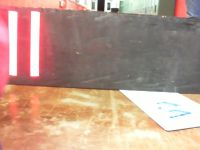switch: (7, 10, 18, 76), (30, 11, 39, 77)
